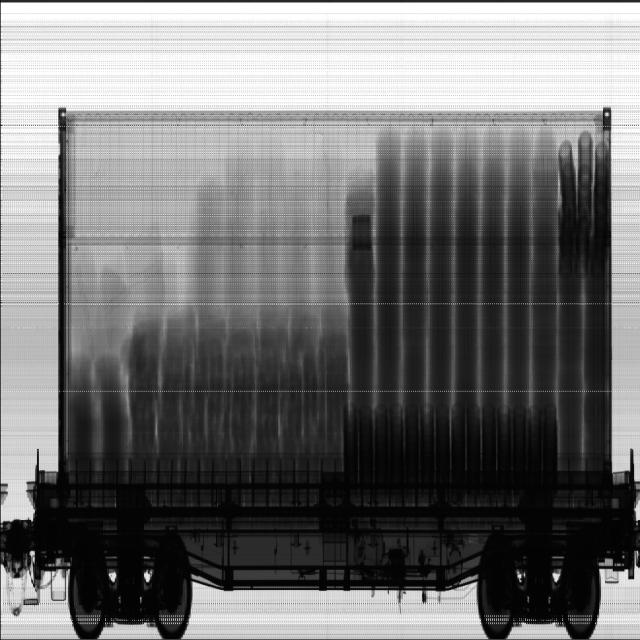textiles: (69, 299, 345, 457)
